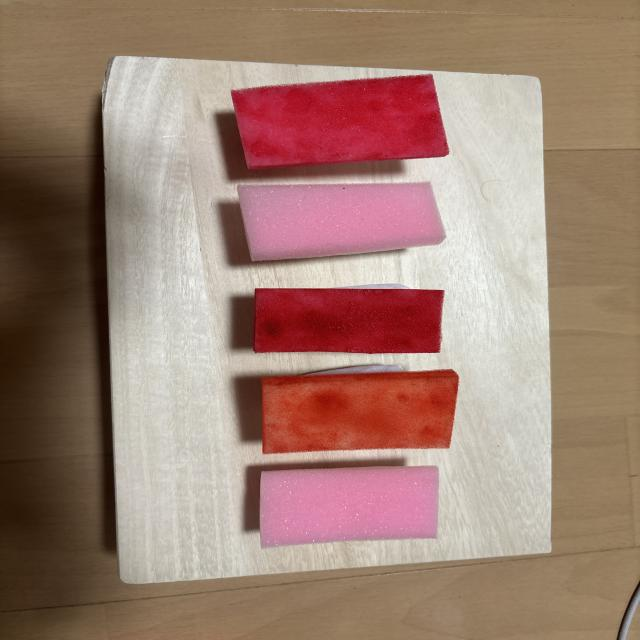maguro: (232, 75, 448, 169), (254, 285, 443, 353)
salmon: (262, 365, 459, 453)
tai: (237, 183, 445, 261), (260, 466, 439, 547)
